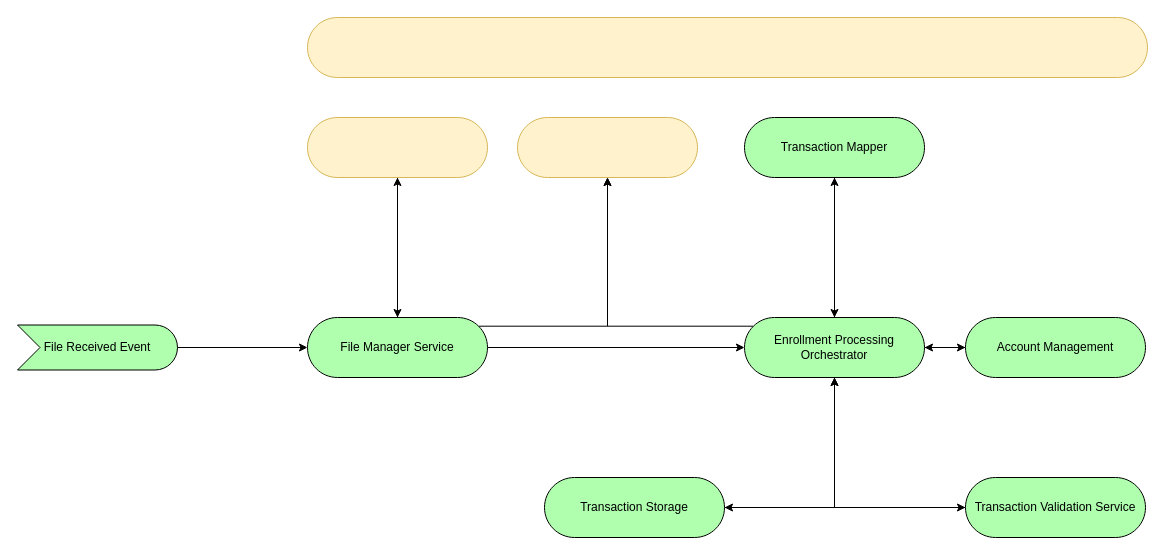
Image size: 1165x555. Some labels were removed from this diagram. Each missing label, with the centre of its shape:
"ID Gen Service" goes at point 607,147.
"Reference Data Service" goes at point 727,47.
"Trading Partner Service" goes at point 397,147.
